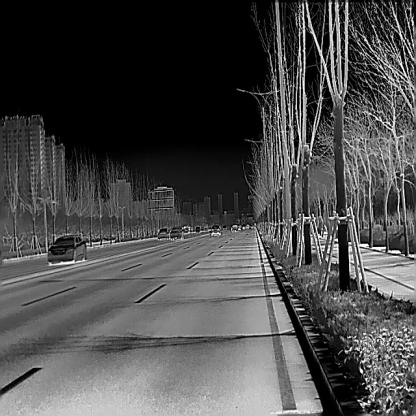car: (46, 233, 87, 264), (170, 226, 184, 239), (157, 228, 170, 239), (210, 224, 222, 235), (230, 224, 241, 233), (194, 224, 200, 232)
